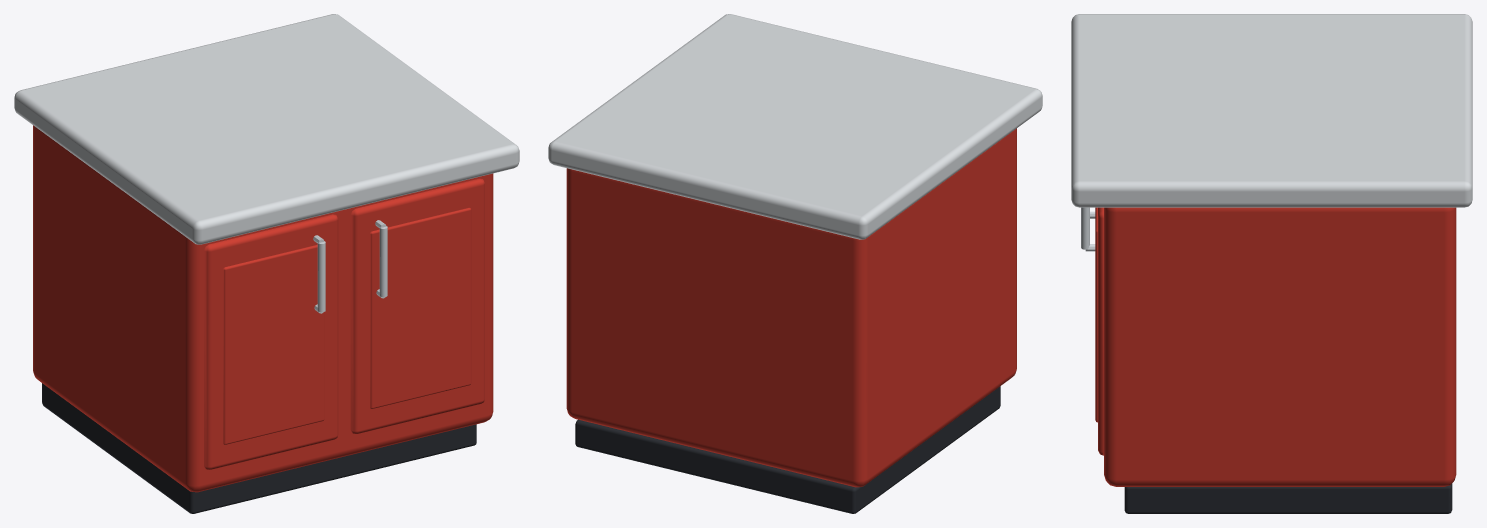
Rendered from station-counter.glb.
The picture shows the model from 3 angles, left to right: view 1: azimuth 30°, elevation 25°; view 2: azimuth 150°, elevation 25°; view 3: azimuth 270°, elevation 25°; orthographic projection. The views are drawn at different scales.
Visible parts, largest first — view 1: Counter; view 2: Counter; view 3: Counter.
Part boxes in pixels (x1,y1,x2,y2): Counter: (14, 14, 519, 513); Counter: (548, 14, 1042, 513); Counter: (1071, 14, 1472, 513).
Size of the model in its own units: 1 by 0.92 by 0.98.
